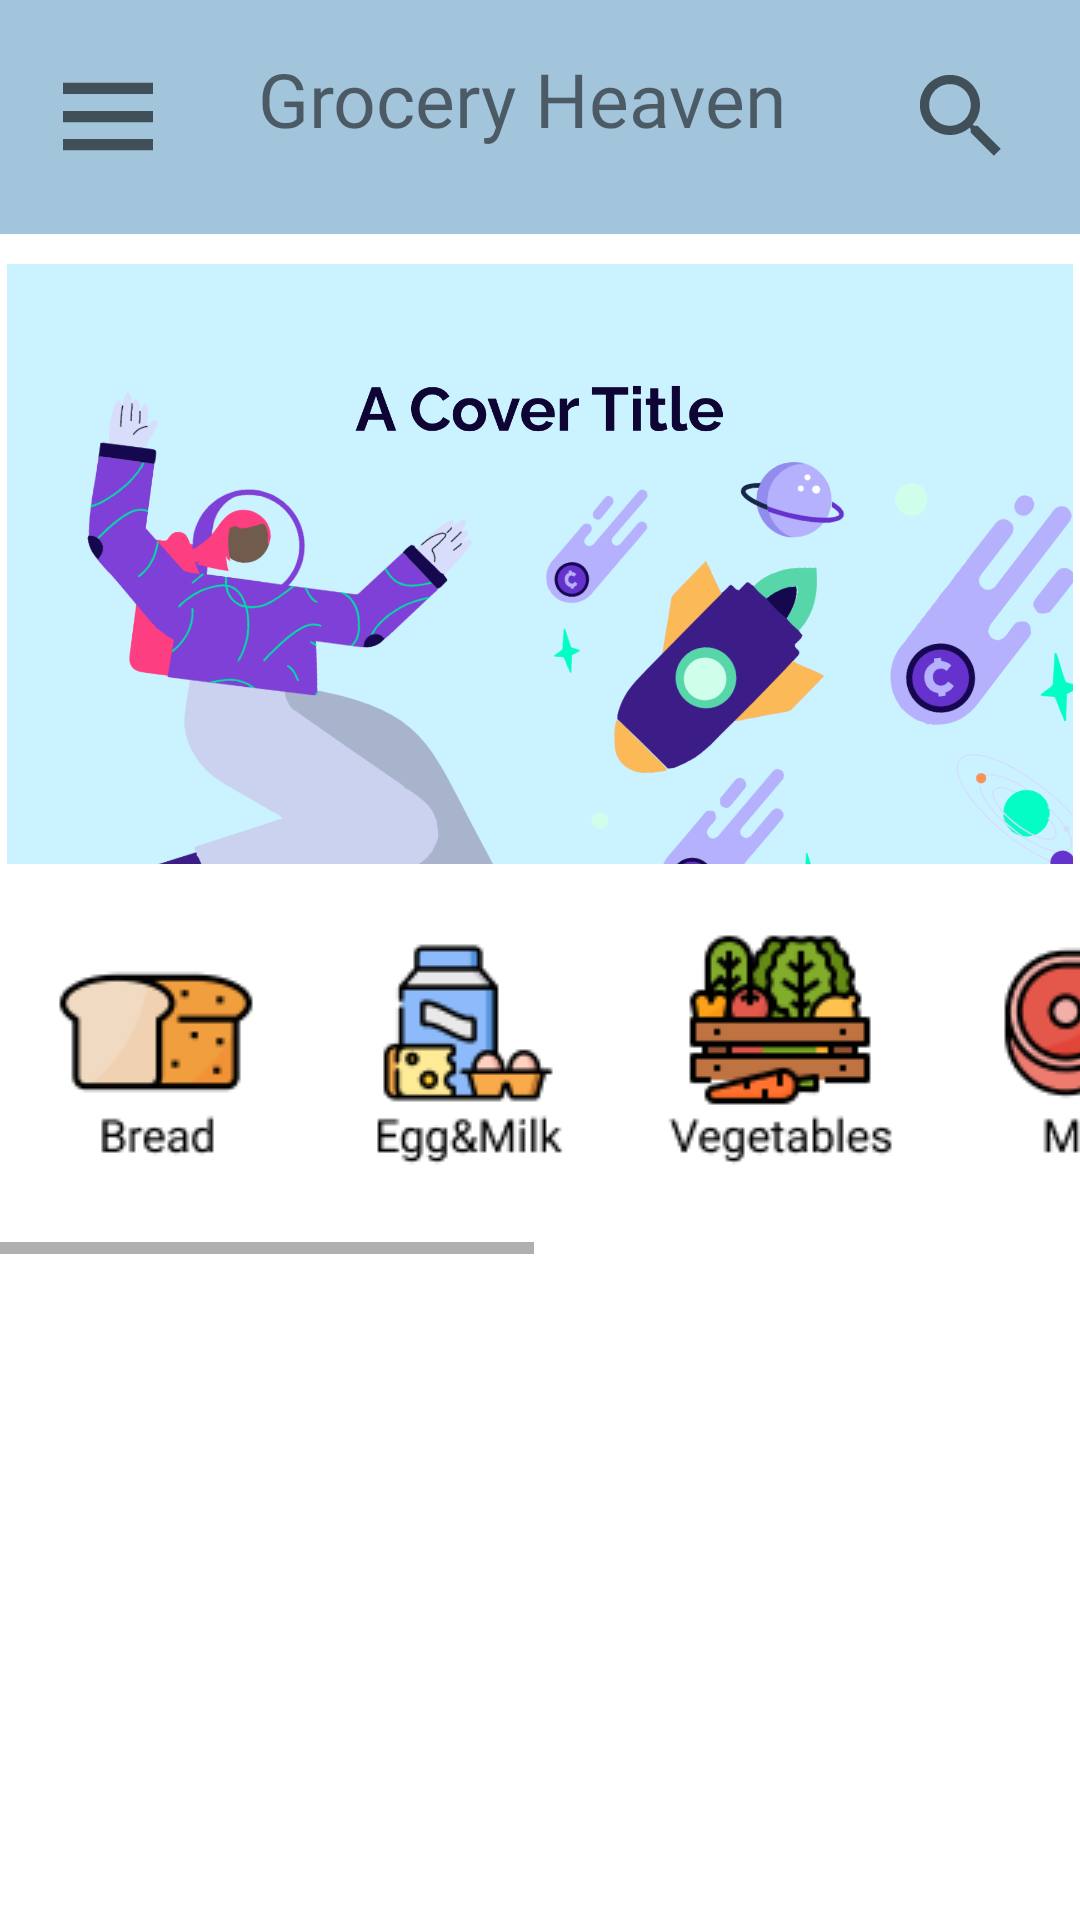

Icon click points for this 1080px×1920px phone screenshot, format point (x, y):
menu: point (108, 116)
search: point (960, 115)
